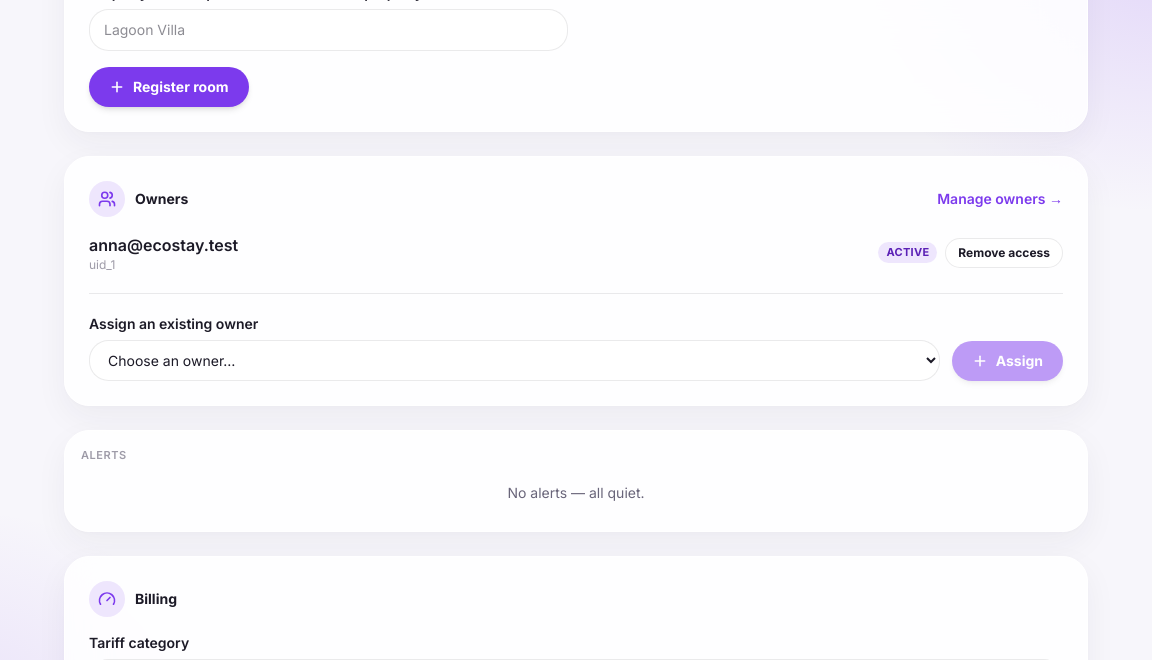
Test: property detail — owner access writes (slice 06, gate #1 approved) › surfaces an assign failure without corrupting the list
(page scrolled)
Select "ben@ecostay.test" in the dropdown labelled "Assign an existing owner" at [514, 360], box [89,340,940,380]
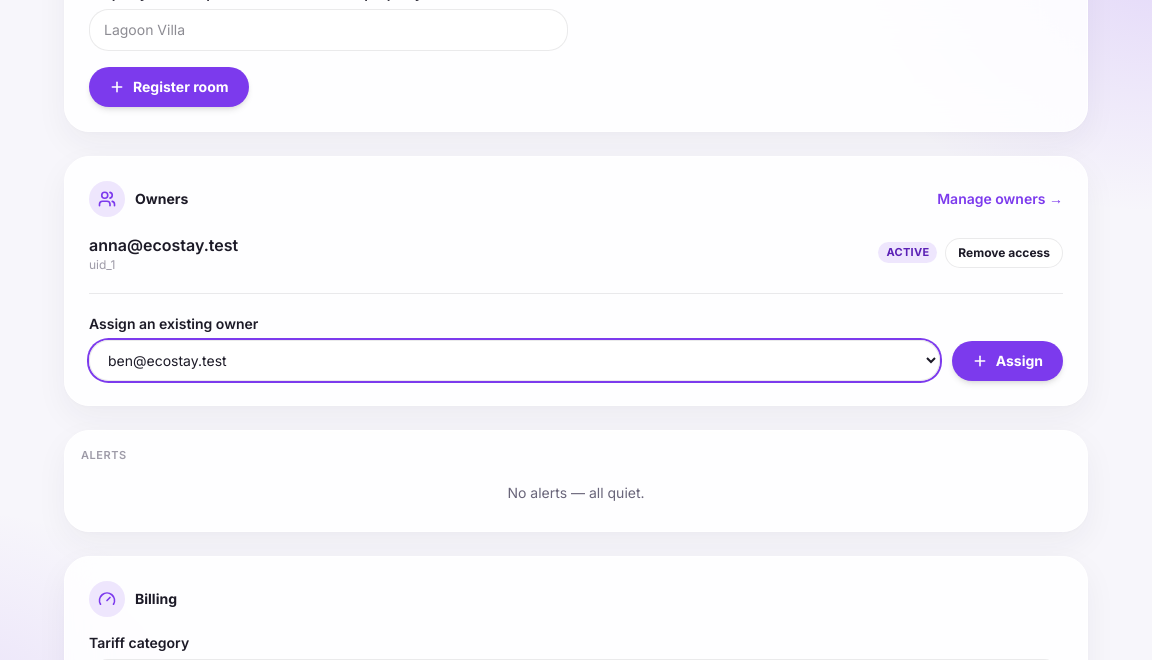
Click the button "Assign".
click(1007, 360)  # box [952,340,1063,380]
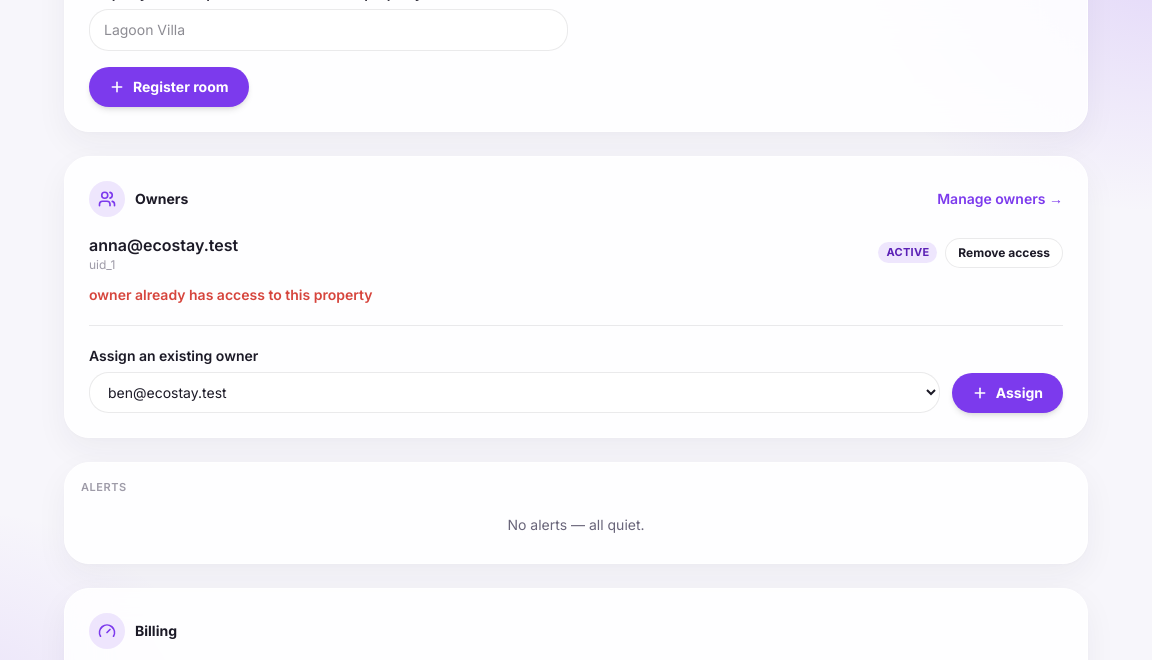
Check: the message shows "already has access", box [89,286,372,302]
